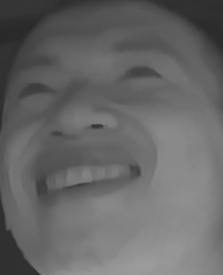eye: (117, 54, 166, 88), (17, 76, 63, 100)
mouth: (30, 148, 138, 209)
